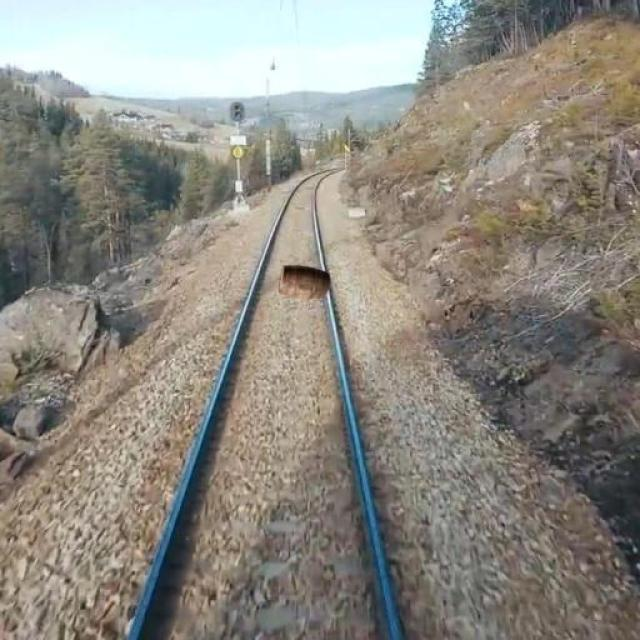Other_objects: (270, 251, 338, 310)
